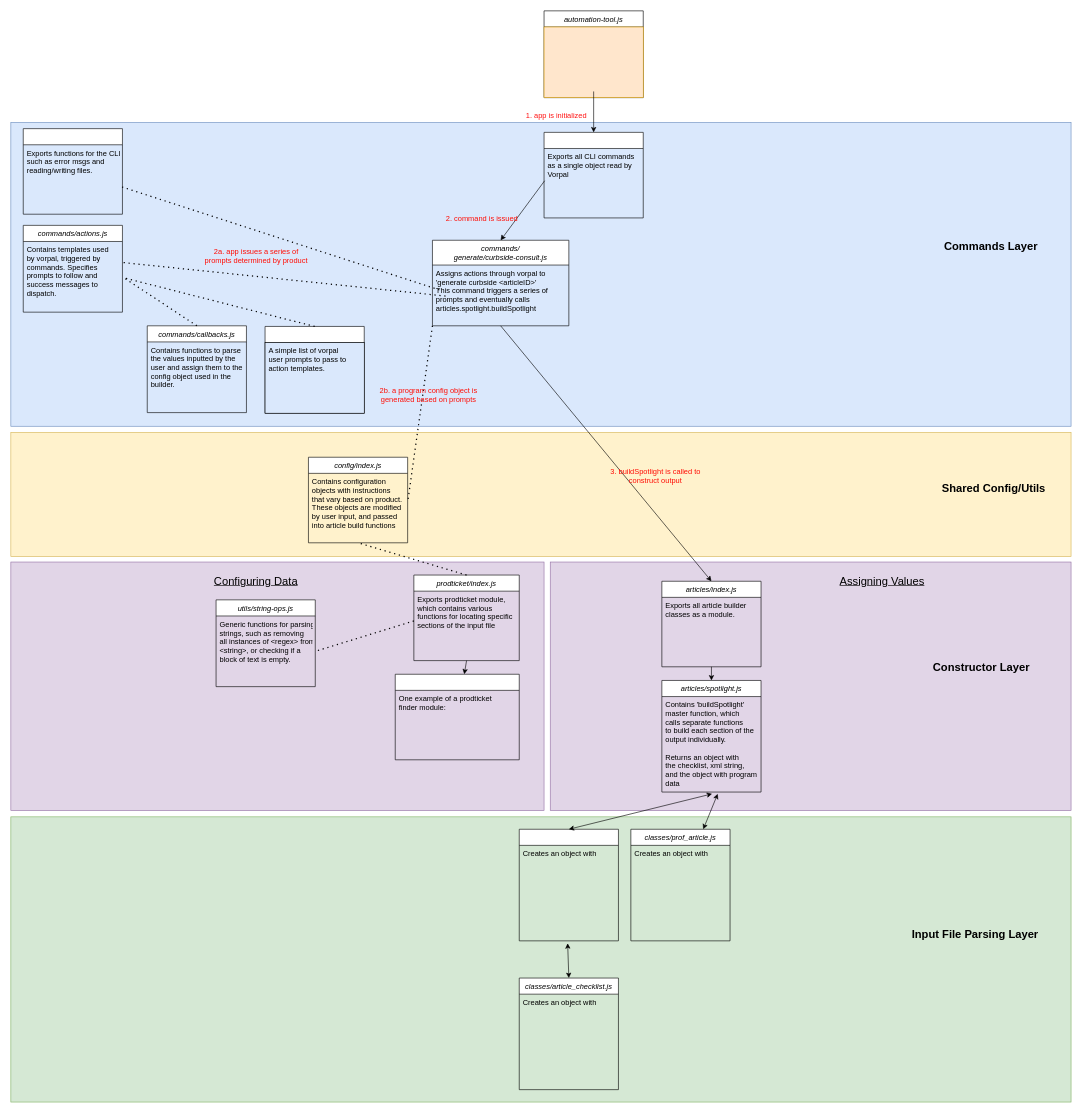
This 1082x1113 diagram has some shape labels left out. The shapes that lost their labels are listed below. From the top down, each one's box as (x1, y1, x2, y2) in pixels, then its label:
(543, 26, 643, 98): Inits CLI instance, Waits for user input
(23, 128, 122, 214): utils/cli-tools.js
(543, 132, 643, 218): commands/index.js
(264, 326, 364, 413): commands/prompts.js
(395, 674, 519, 760): prodticket/find-learning-objectives.js
(519, 829, 618, 941): classes/spotlight_checklist.js
